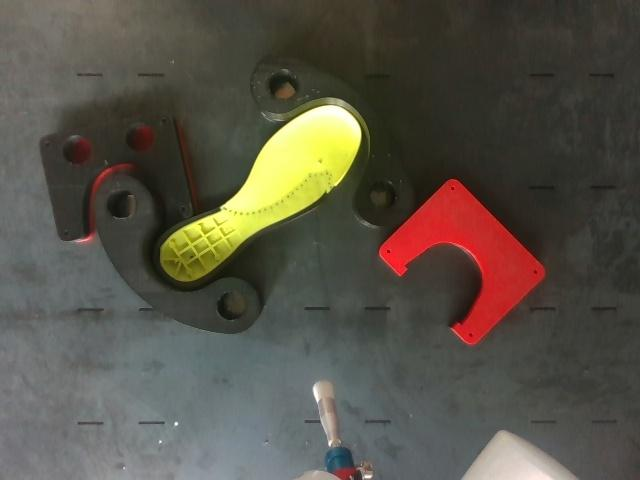shoes: (154, 106, 361, 286)
